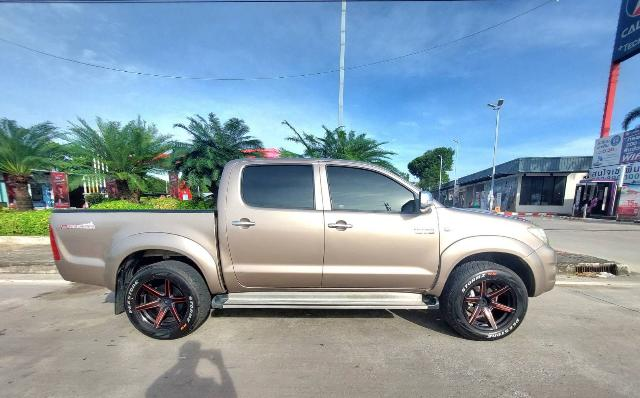pickup-truck: (40, 151, 570, 353)
